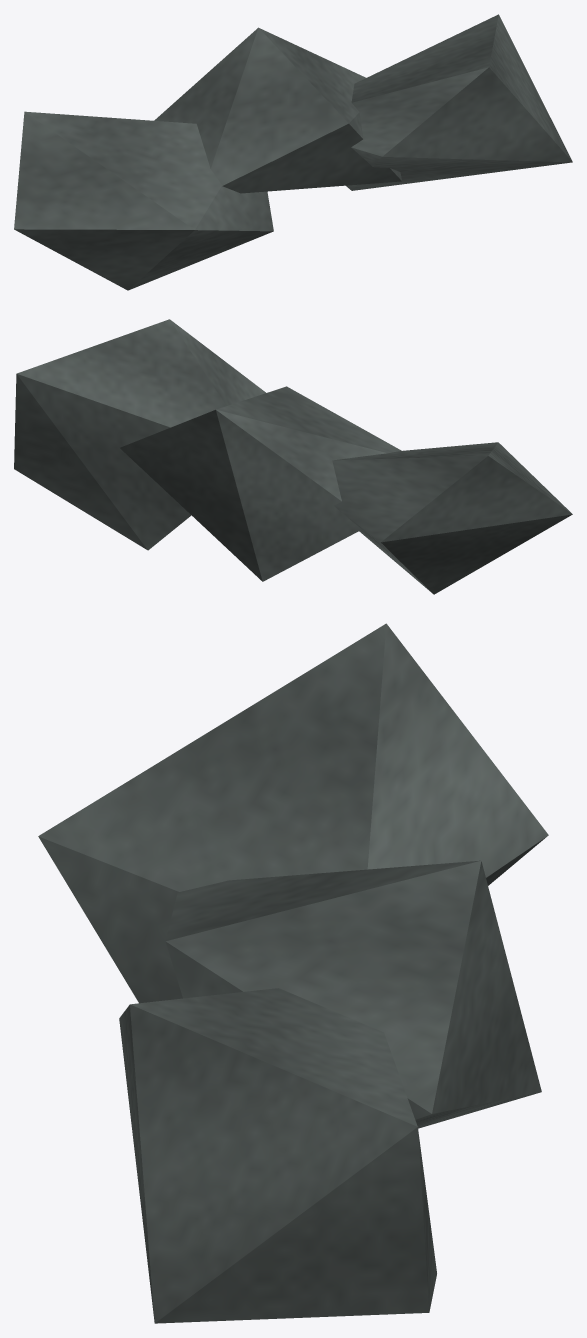
The model's file is reef.reef_cluster.lod1.glb.
The picture shows the model from 3 angles, top to bottom: view 1: azimuth 30°, elevation 25°; view 2: azimuth 150°, elevation 25°; view 3: azimuth 270°, elevation 25°; orthographic projection. The views are drawn at different scales.
Parts seen in each view (by area): view 1: Reef, Reef.002, Reef.001; view 2: Reef.002, Reef.001, Reef; view 3: Reef.002, Reef, Reef.001.
Part boxes in pixels (x1,y1,x2,y2): Reef: (14,111,273,290); Reef.002: (346,14,572,190); Reef.001: (154,27,401,193); Reef.002: (14,319,265,550); Reef.001: (120,386,401,581); Reef: (332,442,572,594); Reef.002: (119,988,436,1323); Reef: (38,623,548,1003); Reef.001: (165,860,541,1128).
Size of the model in its own units: 1.47 by 0.4828 by 0.6308.
1 material, 1 textured.
